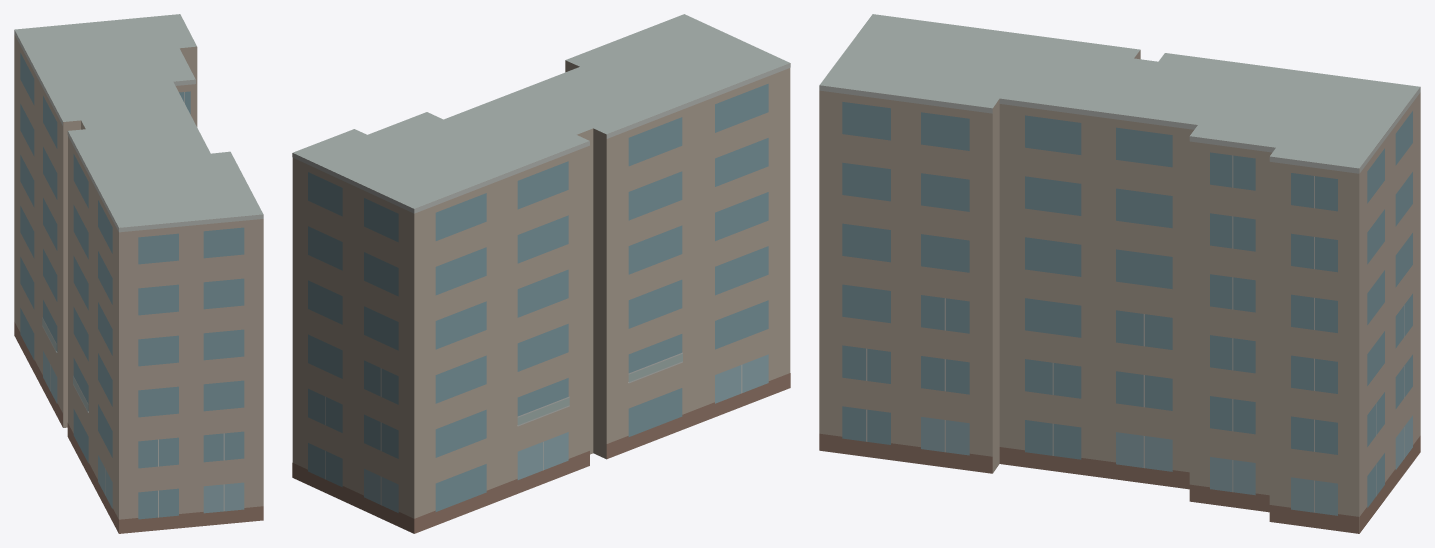
The model's file is survey-upis-32535864.glb.
3 views of the same model, side by side, from view 1: azimuth 30°, elevation 25°; view 2: azimuth 150°, elevation 25°; view 3: azimuth 270°, elevation 25° (orthographic). The views are drawn at different scales.
Parts seen in each view (by area): view 1: survey-upis-32535864.tmp; view 2: survey-upis-32535864.tmp; view 3: survey-upis-32535864.tmp.
Boxes of the visible parts, bbox=[...] form: survey-upis-32535864.tmp: bbox=[14, 14, 263, 533]; survey-upis-32535864.tmp: bbox=[292, 14, 790, 533]; survey-upis-32535864.tmp: bbox=[819, 14, 1420, 533].
Size of the model in its own units: 15.2 by 16.75 by 24.99.
